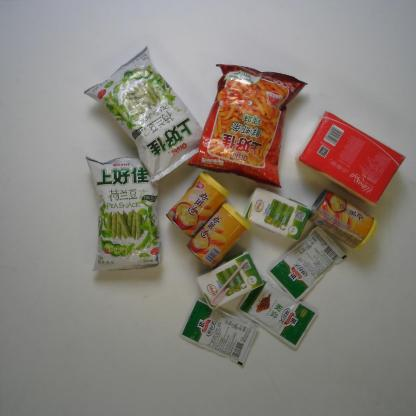Canned Food: (184, 200, 254, 272), (165, 168, 233, 240), (305, 188, 380, 253)
Milk: (194, 247, 266, 312), (239, 183, 315, 243)
Puffed Food: (80, 41, 210, 186), (185, 58, 310, 191), (81, 149, 168, 276)
Seasoner: (266, 224, 350, 306), (234, 276, 321, 351), (178, 296, 261, 368)
Tissue: (293, 108, 408, 210)
